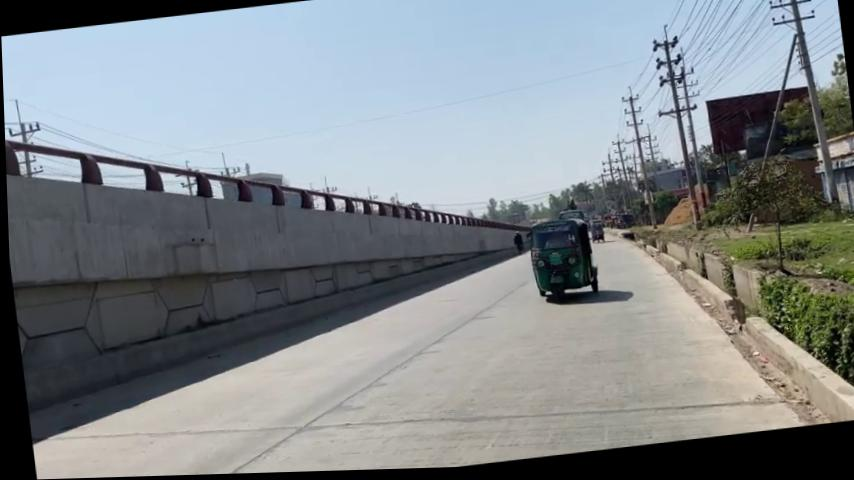Fallen-tree: (3, 77, 545, 398)
Fence: (510, 234, 522, 258)
Garbage: (754, 0, 839, 214)
Garbage-bin: (763, 279, 854, 414)
Railroad-crossing: (766, 57, 854, 156)
Rickshaw: (522, 218, 598, 305)
